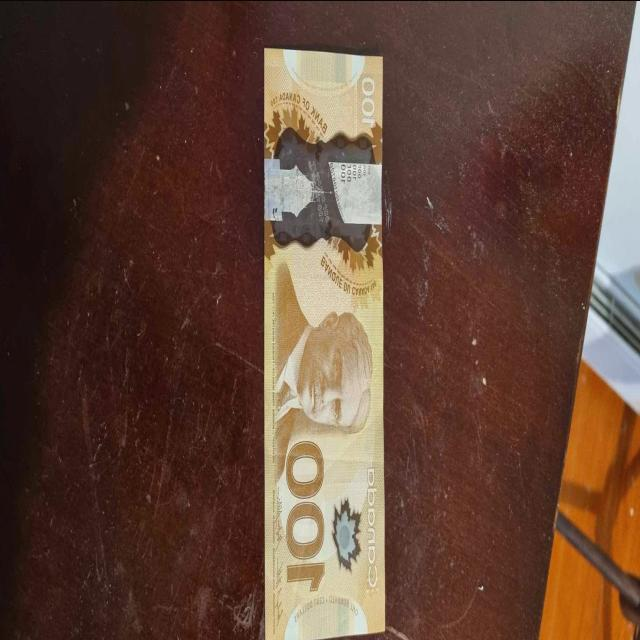100 cad: (266, 44, 388, 634)
